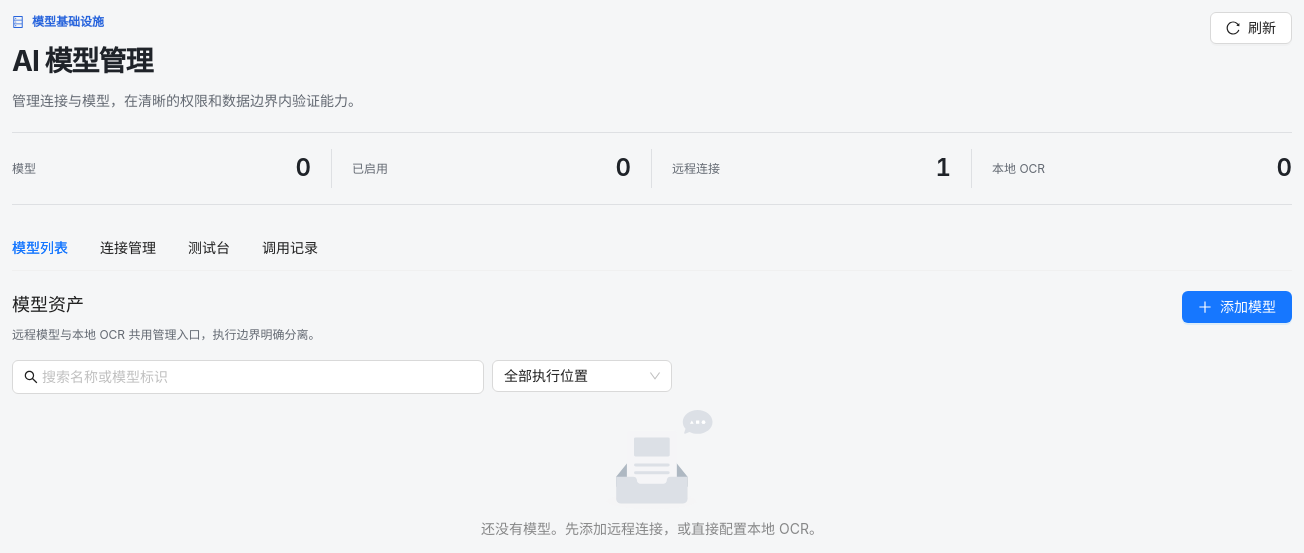
Test case: permission boundaries and low-risk logs › write permission does not imply secret write
Expected: the button "添加模型" is enabled, x1=1182 y1=291 x2=1292 y2=323
What coordinates should you click on to do the following:
click the tab "连接管理"
I would click on:
 (128, 248)
Its box is x1=100 y1=237 x2=156 y2=259.
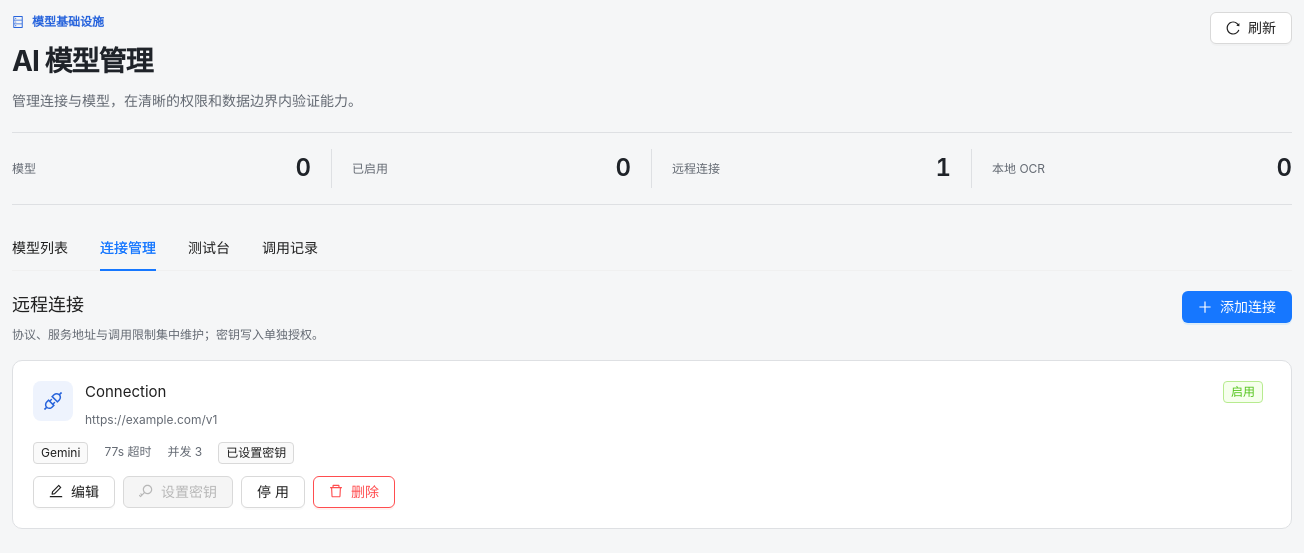
Now the button "编辑" is enabled, box x1=33 y1=476 x2=115 y2=508
Now the button "设置密钥" is disabled, box x1=123 y1=476 x2=233 y2=508
